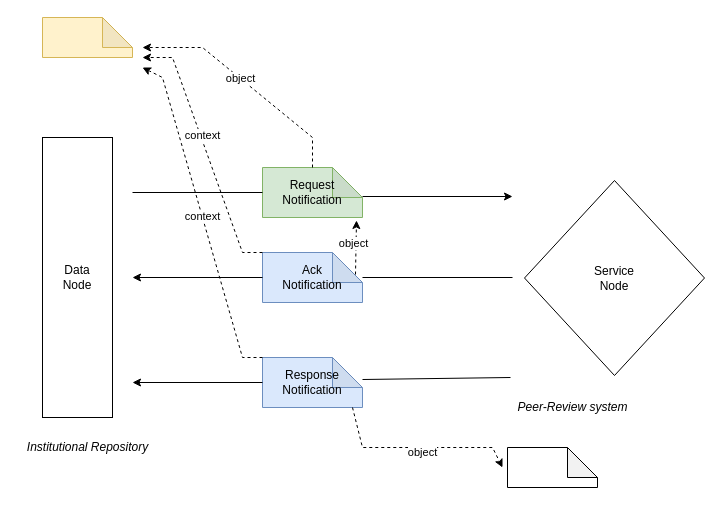
Image size: 722x505. Some labels were removed from this diagram. Each missing label, with the centre of its shape:
"Artifact" belongs at point 87,37.
"Service Result" belongs at point 552,467.
